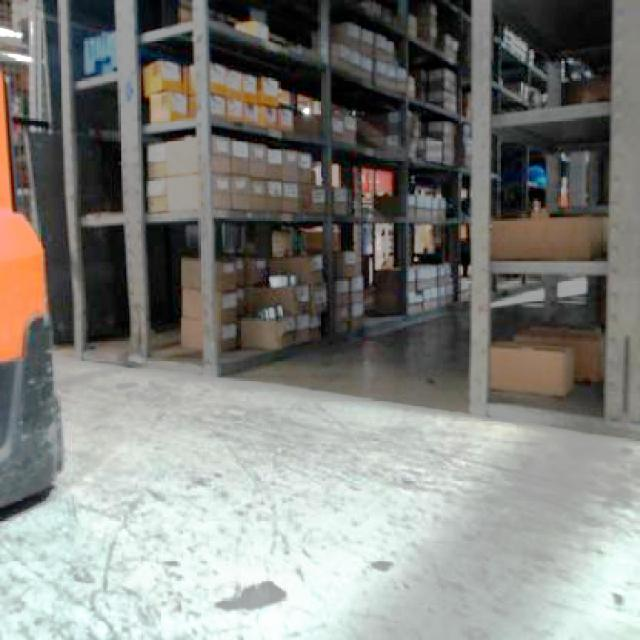ground: (0, 326, 638, 638)
pallet: (134, 0, 368, 365), (469, 0, 638, 443), (485, 206, 608, 400), (177, 248, 365, 352), (488, 209, 606, 260), (512, 323, 603, 383), (488, 338, 574, 397)
